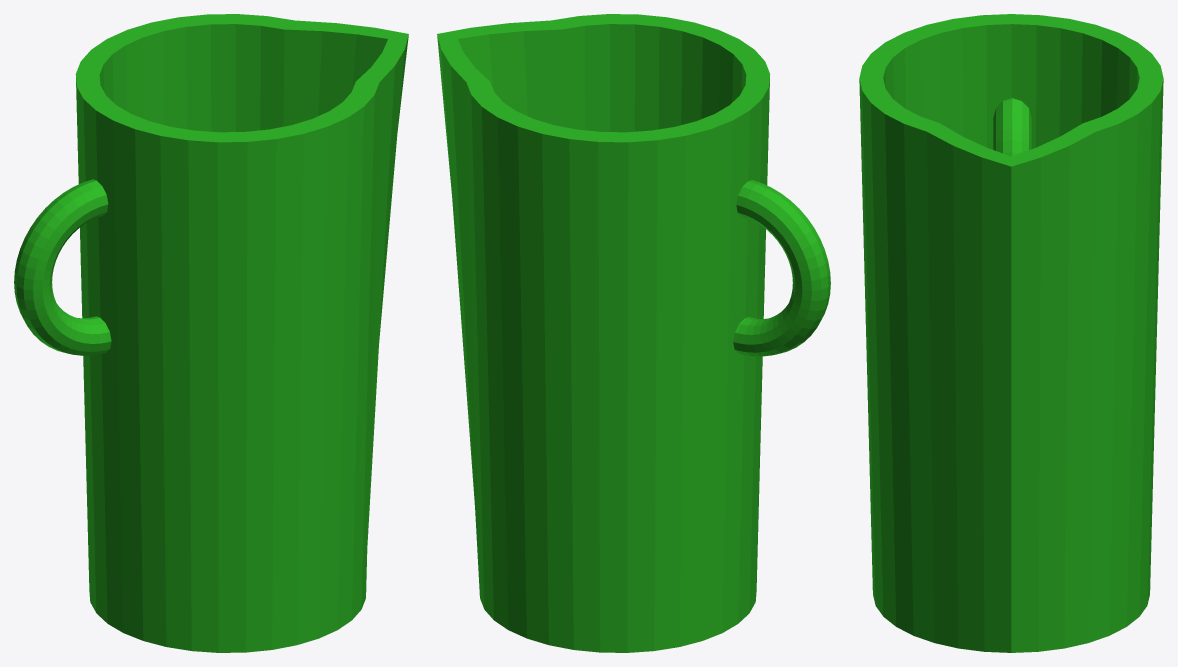
Rendered from Jug.gltf.
The picture shows the model from 3 angles, left to right: view 1: azimuth 30°, elevation 25°; view 2: azimuth 150°, elevation 25°; view 3: azimuth 270°, elevation 25°; orthographic projection.
Parts seen in each view (by area): view 1: Jug, Handle; view 2: Jug, Handle; view 3: Jug, Handle.
Boxes of the visible parts, left/top/right/bottom form: Jug: left=75, top=14, right=408, bottom=652; Handle: left=14, top=179, right=111, bottom=355; Jug: left=437, top=14, right=769, bottom=652; Handle: left=733, top=180, right=830, bottom=356; Jug: left=859, top=14, right=1163, bottom=652; Handle: left=993, top=98, right=1031, bottom=156.
Bounding box in the file's own units: 0.2378 × 0.2995 × 0.16.
